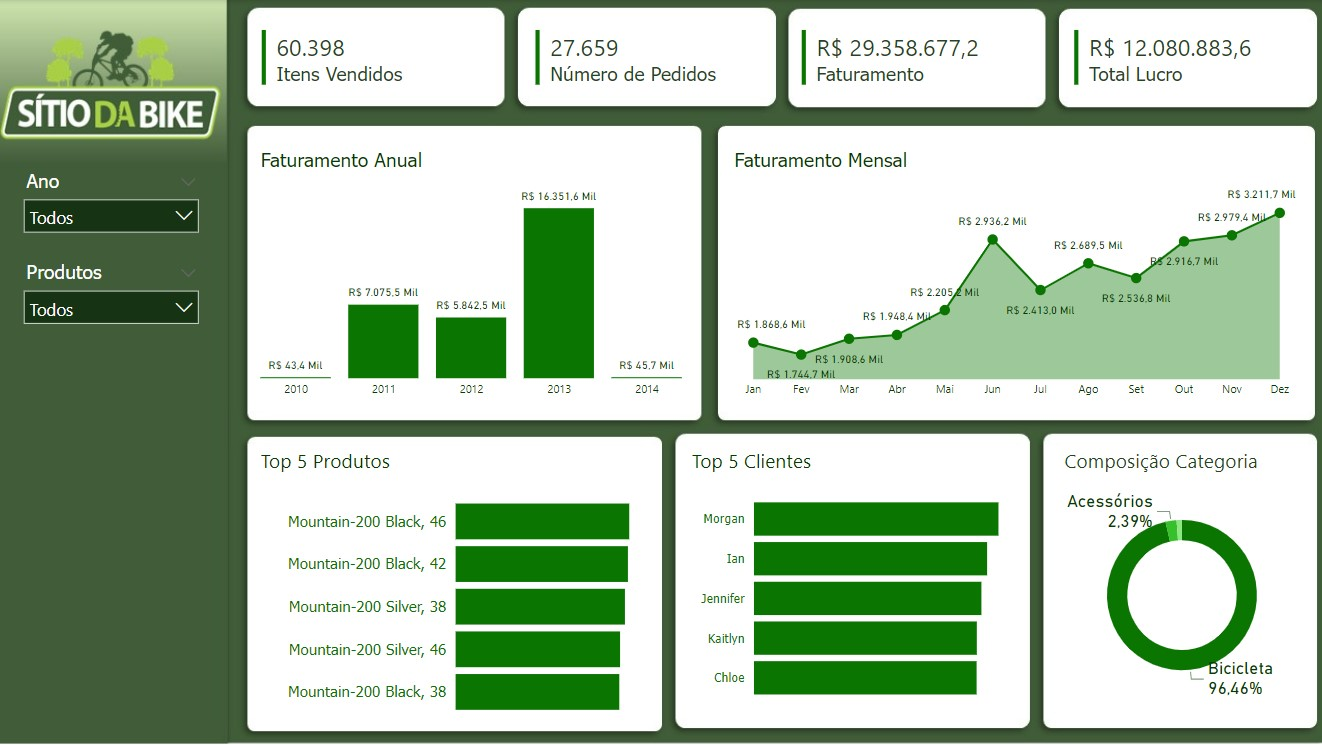

This screenshot's page, from the dashboard's own definition file:
{"tool":"powerbi","page":{"name":"Dashboard","canvas":[1280,720],"ordinal":0},"visuals":[{"type":"multiRowCard","fields":{"Values":["_Medidas Agregadoras/Totais.Total Vendas"]},"box":[771.1,24.1,232.9,69.6],"z":1000},{"type":"slicer","fields":{"Values":["dCalendario.Ano"]},"box":[14.2,157.6,188.9,78.1],"z":2000},{"type":"multiRowCard","fields":{"Values":["_Medidas Agregadoras/Totais.Total Lucro"]},"box":[1033.8,24.1,227.2,69.6],"z":4000},{"type":"multiRowCard","fields":{"Values":["_Medidas Agregadoras/Totais.Nº Total de Vendas"]},"box":[514.1,24.1,210.2,69.6],"z":5000},{"type":"multiRowCard","fields":{"Values":["_Medidas Agregadoras/Totais.Nº Total de Itens Vendidos"]},"box":[249.9,24.1,215.9,69.6],"z":6000},{"type":"clusteredColumnChart","title":"Faturamento Anual","fields":{"Y":["_Medidas Agregadoras/Totais.Total Vendas"],"Category":["dCalendario.Ano"]},"box":[248.1,142.6,416.3,250.9],"z":7000},{"type":"areaChart","title":"Faturamento Mensal","fields":{"Category":["dCalendario.Mês Abr"],"Y":["Medidas.Total Vendas"]},"box":[705.7,142.6,554.6,250.9],"z":8000},{"type":"barChart","title":"Top 5 Produtos","fields":{"Category":["dProdutos.NomeProduto"],"Y":["_Medidas de Ranking.Top N Produtos"]},"box":[248.1,432,380.7,275.2],"z":9000},{"type":"barChart","title":"Top 5 Clientes","fields":{"Category":["dClientes.Nome"],"Y":["_Medidas de Ranking.Top N Clientes"]},"box":[664.4,432,313.7,259.5],"z":10000},{"type":"donutChart","title":"Composição Categoria","fields":{"Category":["dSubCategoriaProdutos.dCategoriaProdutos.NomeCategoriaProduto"],"Y":["_Medidas Agregadoras/Totais.Total Vendas"]},"box":[1023.9,431.7,237.2,259.9],"z":11000},{"type":"slicer","fields":{"Values":["dSubCategoriaProdutos.dCategoriaProdutos.NomeCategoriaProduto"]},"box":[14.2,245.7,188.9,86.6],"z":12000},{"type":"actionButton","box":[6,671.8,203.8,39.8],"z":12001}]}

Visuals, with their boxes in screenshot pixels (x1, y1, x2, y2), scaled from the page's 1280x720 canvas onto the 1322x745 screenshot:
multiRowCard - _Medidas Agregadoras/Totais.Total Vendas: bbox=(796, 25, 1037, 97)
slicer - dCalendario.Ano: bbox=(15, 163, 210, 244)
multiRowCard - _Medidas Agregadoras/Totais.Total Lucro: bbox=(1068, 25, 1302, 97)
multiRowCard - _Medidas Agregadoras/Totais.Nº Total de Vendas: bbox=(531, 25, 748, 97)
multiRowCard - _Medidas Agregadoras/Totais.Nº Total de Itens Vendidos: bbox=(258, 25, 481, 97)
"Faturamento Anual" clusteredColumnChart: bbox=(256, 148, 686, 407)
"Faturamento Mensal" areaChart: bbox=(729, 148, 1302, 407)
"Top 5 Produtos" barChart: bbox=(256, 447, 649, 732)
"Top 5 Clientes" barChart: bbox=(686, 447, 1010, 716)
"Composição Categoria" donutChart: bbox=(1057, 447, 1302, 716)
slicer - dSubCategoriaProdutos.dCategoriaProdutos.NomeCategoriaProduto: bbox=(15, 254, 210, 344)
actionButton: bbox=(6, 695, 217, 736)
